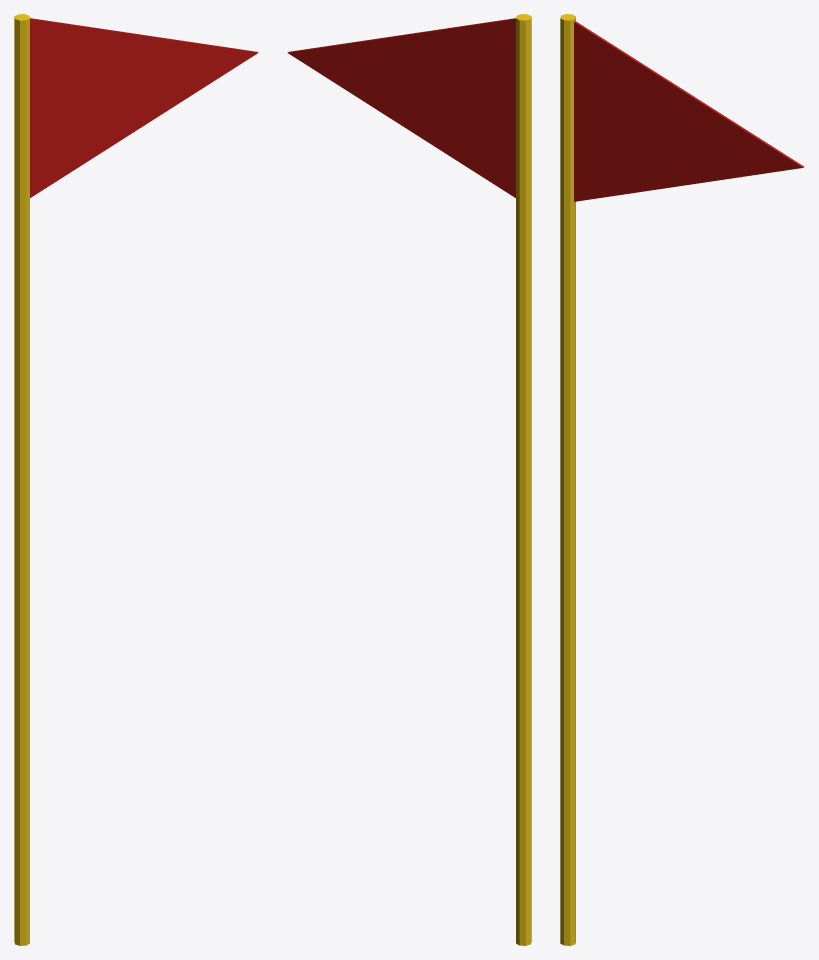
File: sport.pitch.corner_flag.glb
3 renders of one model, left to right at view 1: azimuth 30°, elevation 25°; view 2: azimuth 150°, elevation 25°; view 3: azimuth 330°, elevation 25°, orthographic.
Visible parts, largest first — view 1: main__hazard_red, main__plastic_yellow; view 2: main__hazard_red, main__plastic_yellow; view 3: main__hazard_red, main__plastic_yellow.
Boxes of the visible parts, x1,y1,x2,y2 form: main__hazard_red: (30,18,258,197); main__plastic_yellow: (14,14,29,945); main__hazard_red: (287,18,515,197); main__plastic_yellow: (516,14,531,945); main__hazard_red: (574,21,804,201); main__plastic_yellow: (560,14,575,945).
Bounding box in the file's own units: 0.412 × 1.5 × 0.024.
